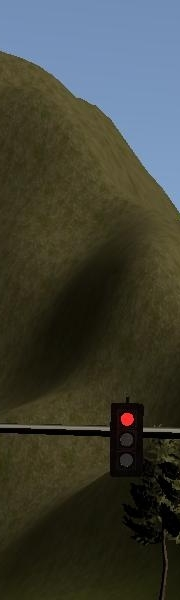Red: (108, 405, 144, 477)
